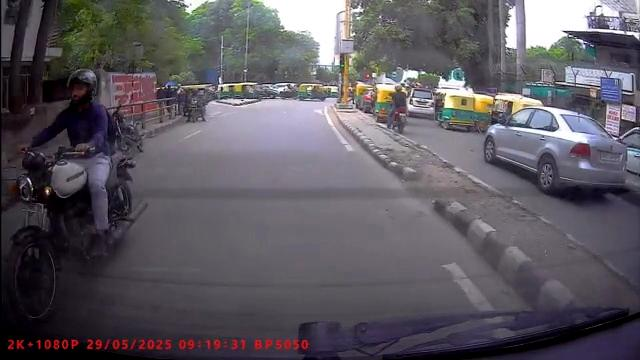motorcycle_with_helmet: (1, 67, 150, 319)
